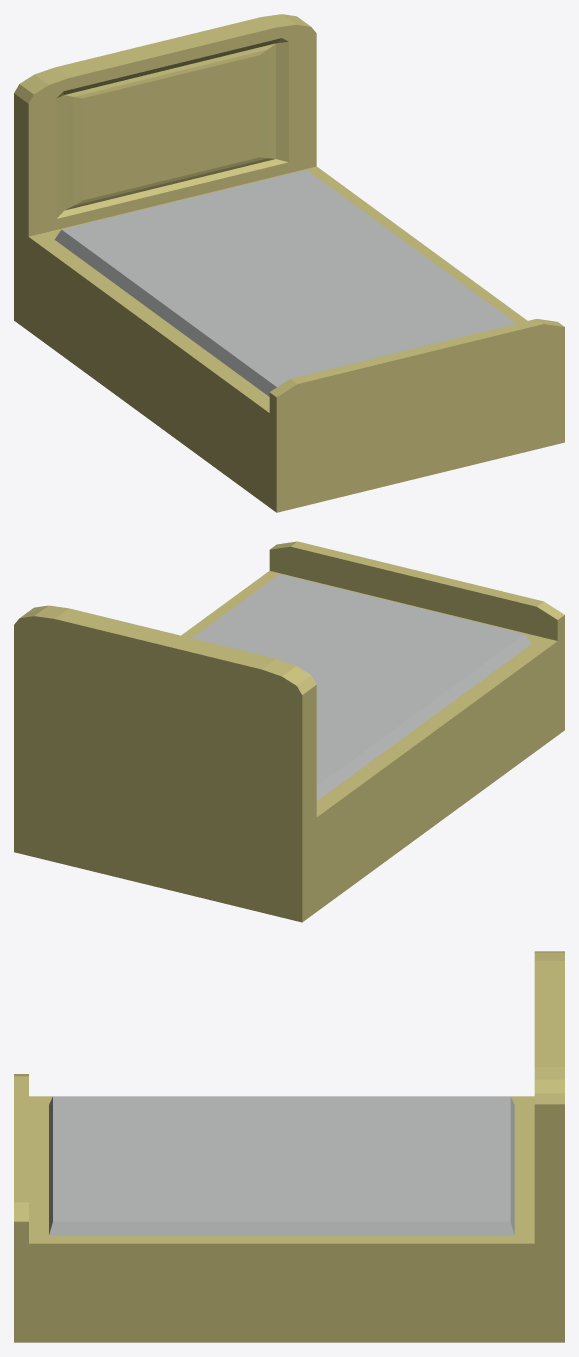
Rendered from bed2.glb.
The picture shows the model from 3 angles, top to bottom: view 1: azimuth 30°, elevation 25°; view 2: azimuth 150°, elevation 25°; view 3: azimuth 270°, elevation 25°; orthographic projection. The views are drawn at different scales.
Visible parts, largest first — view 1: 침대; view 2: 침대; view 3: 침대.
Boxes of the visible parts, x1,y1,x2,y2 form: 침대: (14,14,564,512); 침대: (14,541,564,922); 침대: (14,951,564,1342).
Bounding box in the file's own units: 1.38 × 1.11 × 2.18.
